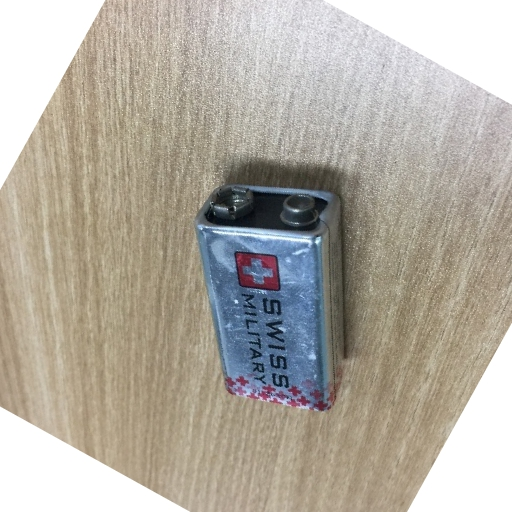Battery_3: (172, 165, 365, 424)
